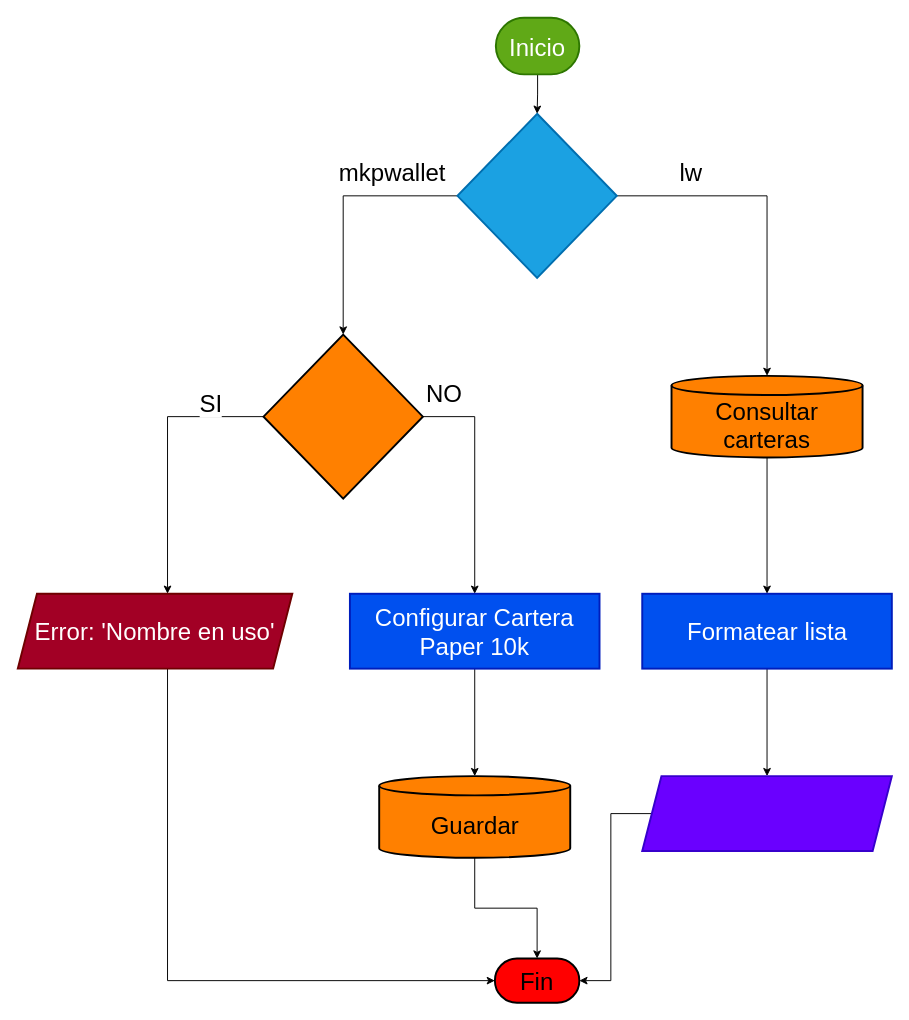
Image size: 909x1020. Some labels were removed from this diagram. The centre of each missing label's shape, as x and y in pixels:
"Mostrar carteras" goes at [766,813].
"¿Acción?" goes at [536,195].
"¿Existe?" goes at [342,416].
